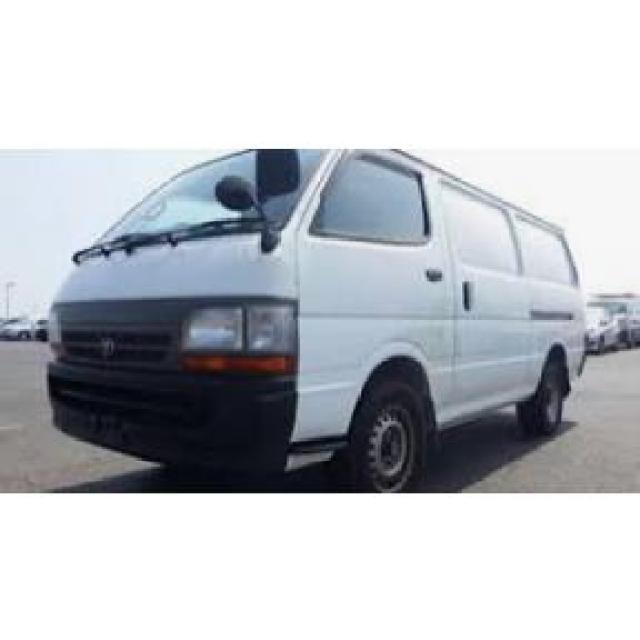Van: (48, 147, 602, 490)
